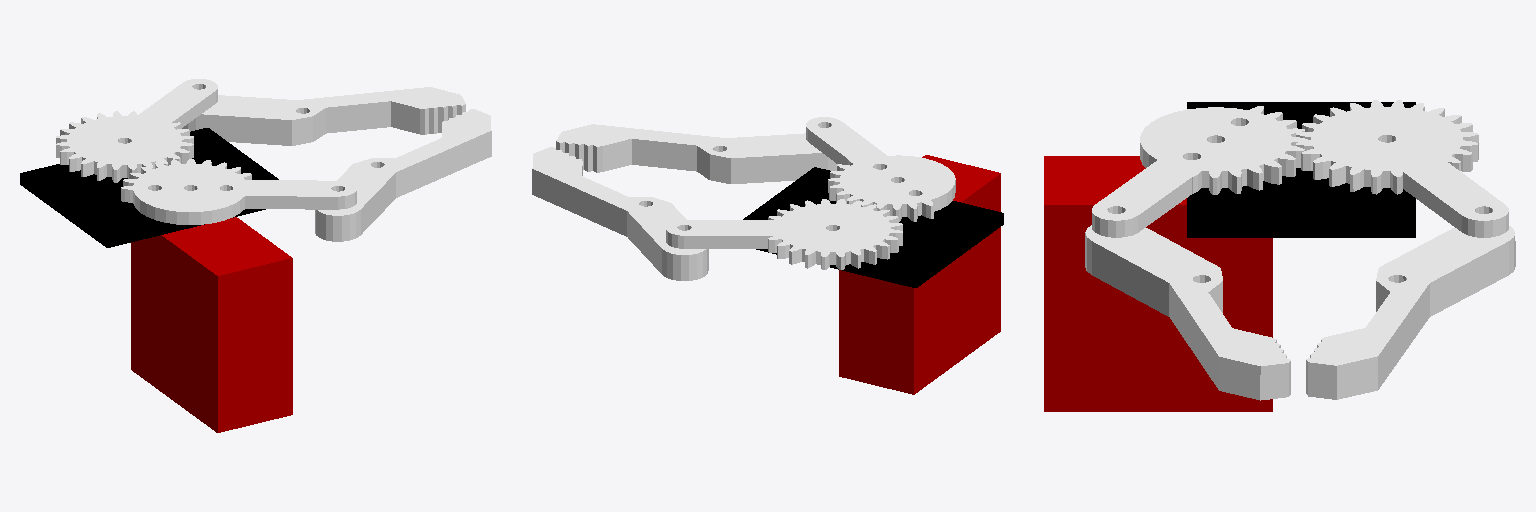
The robot description file, URDF, robot "hand":
<robot name="hand">

	<material name="red">
		<color rgba="0.8 0 0 1"/>
	</material>

	<material name="blue">
		<color rgba="0 0 0.8 1"/>
	</material>
	
	<material name="white">
		<color rgba="1 1 1 1"/>
	</material>

	<material name="black">
		<color rgba="0 0 0 1"/>
	</material>

  <link name="hand_base">
    <visual>
      <origin xyz="0 0 0" rpy="0 0 0" />
      <geometry>
				<box size="0.5 0.4 0.03"/>
      </geometry>
      <material name="black"/>
    </visual>
  </link>


  <link name="hand_right_finger">
    <visual>
      <origin xyz="0.11 0 0" rpy="0 0 0" />
      <geometry>
        <mesh
            filename="package://robot_urdf/meshes/hand_right_finger.STL"
		    scale="11 11 11" />
      </geometry>
      <material name="white"/>
    </visual>
  </link>

  <joint name="hand_base_right" type="revolute">
    <origin
      xyz="0 -0.15 0.06"
      rpy="-1.57 0 3.0 " />
    <parent link="hand_base" />
    <child link="hand_right_finger" />
    <axis xyz="0 1 0" />
    <limit
      lower="0"
      upper="0.57"
      effort="1000"
      velocity="0.5" />
  </joint>

	<!-- Right finger servo -->
	<link name="right_finger_servo">
    <visual>
      <origin xyz="0 0 0" rpy="0 0 0" />
      <geometry>
				<box size="0.2 0.4 0.4"/>
      </geometry>
      <material name="red"/>
    </visual>
  </link>

	<joint name="hand_right_servo" type="fixed">
		<parent link="hand_base"/>
		<child link="right_finger_servo"/>
		<origin rpy="0 0 0" xyz="0 -0.25 -0.22"/>
	</joint>



  <link name="hand_left_finger">
    <visual>
      <origin xyz="0.11 0 0" rpy="0 0 0" />
      <geometry>
        <mesh
            filename="package://robot_urdf/meshes/hand_left_finger.STL" 
		    scale="11 11 11" />
      </geometry>
      <material name="white"/>
    </visual>
  </link>

  <joint name="hand_base_left" type="revolute">
		<mimic joint="hand_base_right"/>
    <origin
      xyz="0 0.15 0.06"
      rpy="-1.57 0 0.52" />
    <parent link="hand_base" />
    <child link="hand_left_finger" />
    <axis xyz="0 -1 0" />
    <limit
      lower="0"
      upper="0.57"
      effort="1000"
      velocity="1000" />
  </joint>
</robot>

--- What the picture shows (computed from the rendered views, not written in the file) ---
The picture shows the robot from 3 angles, left to right: view 1: azimuth 30°, elevation 25°; view 2: azimuth 150°, elevation 25°; view 3: azimuth 270°, elevation 25°; orthographic projection.
Robot: hand — 4 links, 3 joints (2 revolute, 1 fixed); root link hand_base; default pose: all joints at 0.
Visible links, largest first — view 1: right_finger_servo, hand_left_finger, hand_right_finger, hand_base; view 2: right_finger_servo, hand_right_finger, hand_left_finger, hand_base; view 3: right_finger_servo, hand_left_finger, hand_right_finger, hand_base.
Boxes of the visible links, x1,y1,x2,y2 form: right_finger_servo: (131,217,292,432); hand_left_finger: (56,79,465,182); hand_right_finger: (121,109,491,241); hand_base: (20,128,278,247); right_finger_servo: (839,155,1000,394); hand_right_finger: (556,117,955,221); hand_left_finger: (532,147,902,280); hand_base: (743,167,1003,287); right_finger_servo: (1044,156,1272,411); hand_left_finger: (1296,100,1515,399); hand_right_finger: (1085,106,1307,400); hand_base: (1187,102,1415,237).
Size in the robot's own frame: 1.1 by 0.8239 by 0.4801 metres.
2 mesh visuals loaded from 2 distinct referenced files (2 binary STL).